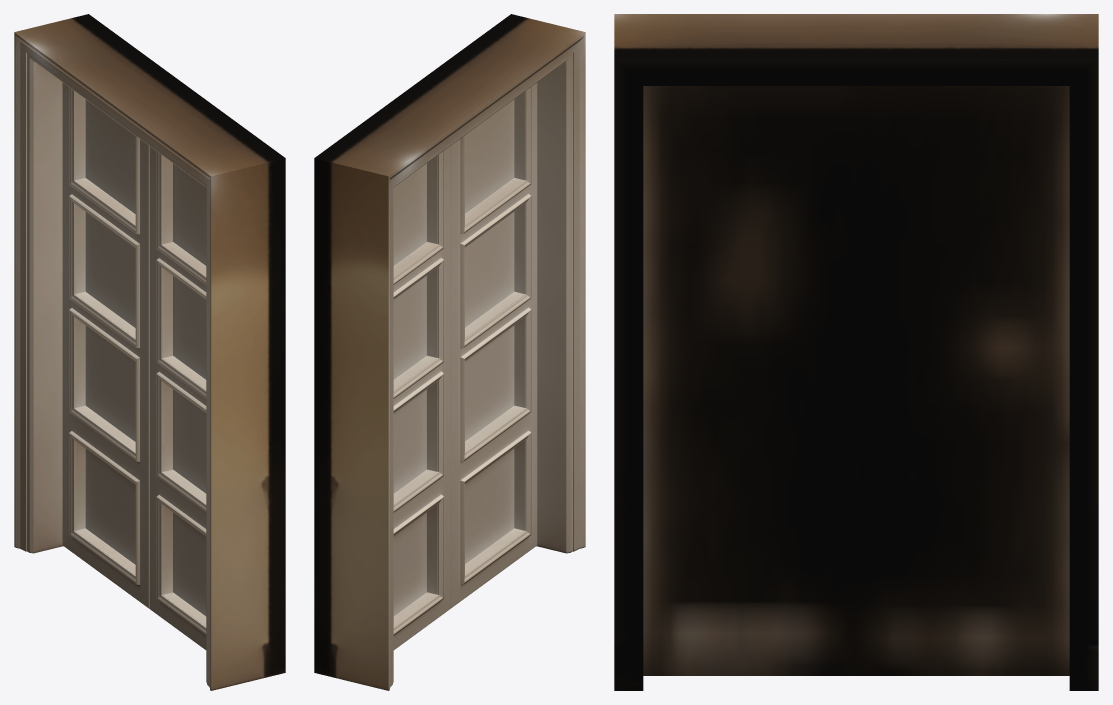
File: Museum_ExitDoor.FBX
3 renders of one model, left to right at view 1: azimuth 30°, elevation 25°; view 2: azimuth 150°, elevation 25°; view 3: azimuth 270°, elevation 25°, orthographic. The views are drawn at different scales.
Parts seen in each view (by area): view 1: Museum_ExitDoor; view 2: Museum_ExitDoor; view 3: Museum_ExitDoor.
Part boxes in pixels (x1=…): Museum_ExitDoor: x1=14, y1=14, x2=285, y2=690; Museum_ExitDoor: x1=314, y1=14, x2=585, y2=690; Museum_ExitDoor: x1=614, y1=14, x2=1098, y2=690.
Bounding box in the file's own units: 349 × 2305 × 1600.
Materials: 1 (1 with a texture image).
